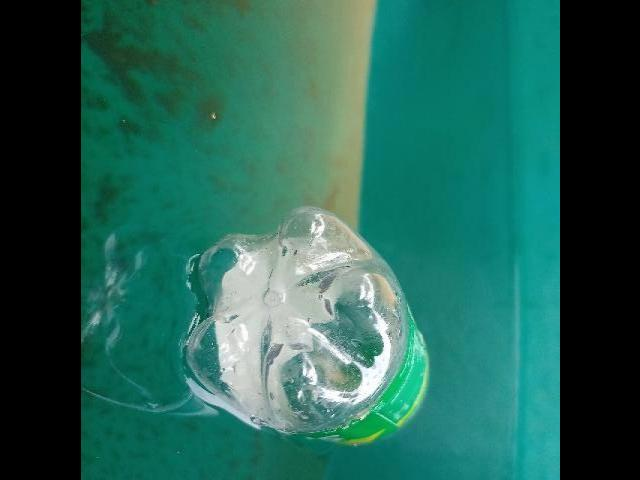Bottle: (176, 187, 433, 459)
